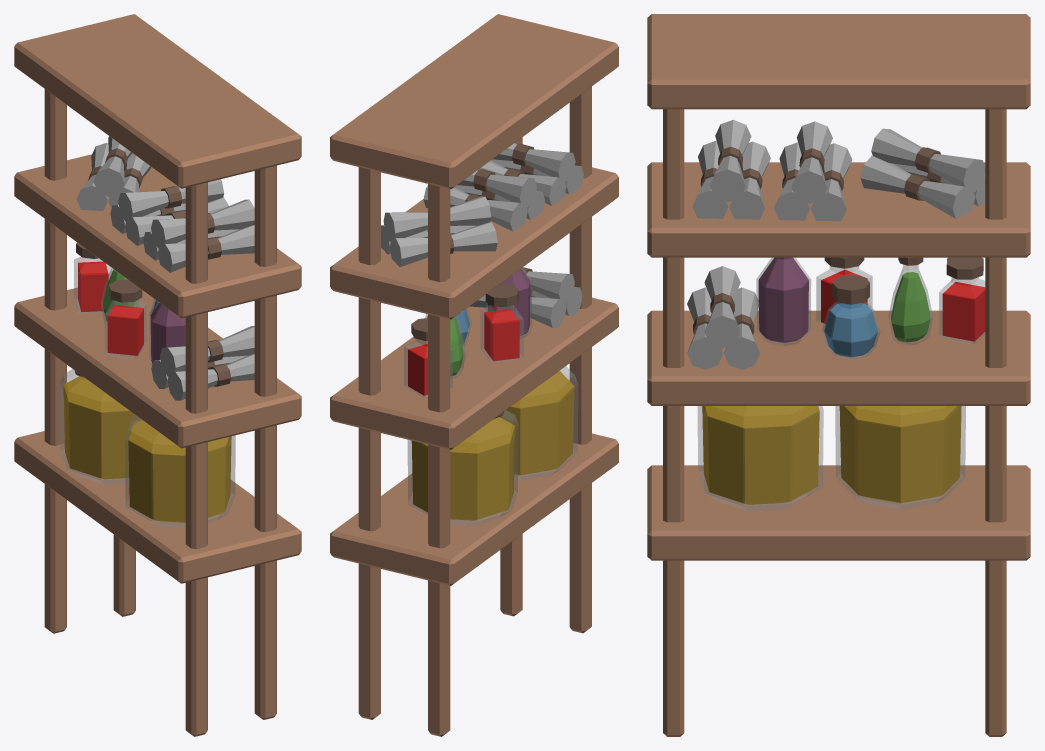
File: Shelf with potions.fbx
3 views of the same model, side by side, from view 1: azimuth 30°, elevation 25°; view 2: azimuth 150°, elevation 25°; view 3: azimuth 270°, elevation 25° (orthographic). The views are drawn at different scales.
Parts seen in each view (by area): view 1: Shelf_with_potions; view 2: Shelf_with_potions; view 3: Shelf_with_potions.
Part boxes in pixels (<box>): Shelf_with_potions: <box>14,14,301,736</box>; Shelf_with_potions: <box>330,14,618,736</box>; Shelf_with_potions: <box>647,14,1030,736</box>.
Bounding box in the file's own units: 104 × 457 × 238.
